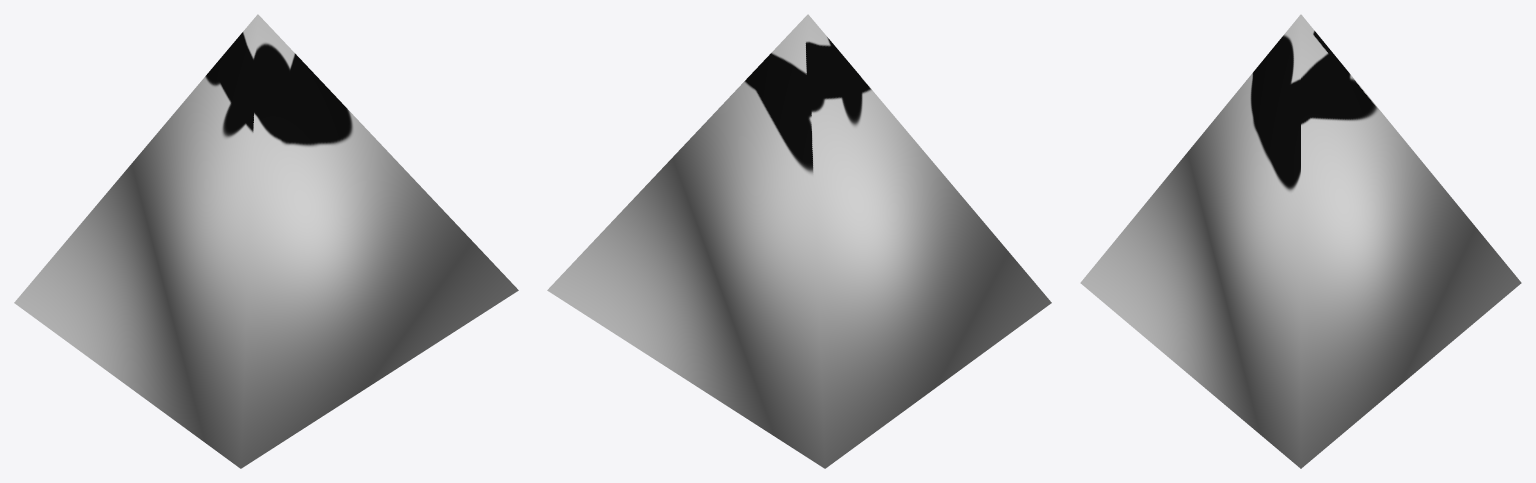
The model's file is d4_dice.glb.
3 views of the same model, side by side, from view 1: azimuth 30°, elevation 25°; view 2: azimuth 150°, elevation 25°; view 3: azimuth 270°, elevation 25° (orthographic). The views are drawn at different scales.
Visible parts, largest first — view 1: 1d4; view 2: 1d4; view 3: 1d4.
Part boxes in pixels (<box>): 1d4: <box>14,14,518,468</box>; 1d4: <box>547,14,1051,468</box>; 1d4: <box>1080,14,1521,468</box>.
Bounding box in the file's own units: 1.76 × 1.46 × 1.77.
Materials: 1 (1 with a texture image).
